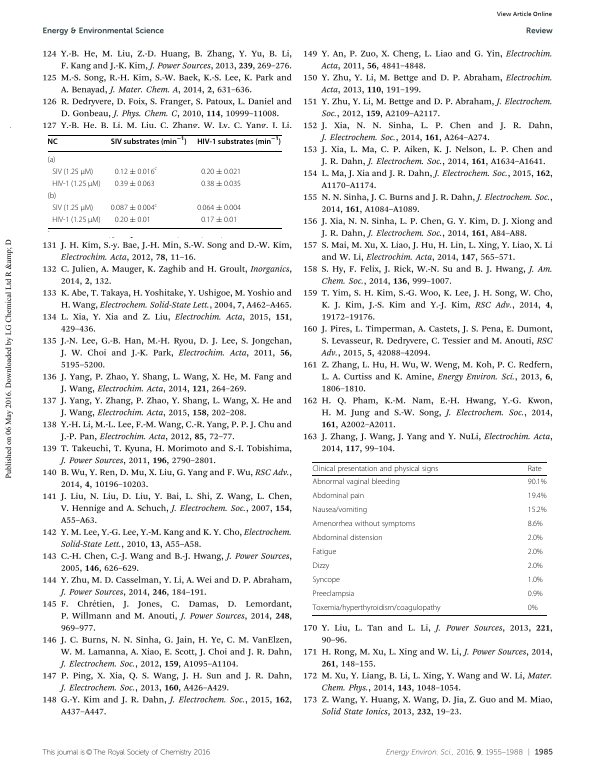borderless: (311, 460, 547, 615), (46, 133, 282, 228)
cell: (311, 603, 441, 613), (312, 464, 439, 473), (312, 519, 416, 529), (312, 477, 401, 487), (196, 136, 282, 146), (110, 136, 188, 146), (312, 533, 384, 543), (312, 505, 368, 515), (312, 491, 365, 501), (110, 202, 158, 213), (51, 179, 102, 189), (114, 166, 158, 177), (51, 216, 102, 225), (51, 167, 94, 177), (312, 589, 355, 599), (200, 167, 242, 177), (114, 179, 156, 189), (200, 179, 242, 189), (196, 204, 242, 213), (51, 204, 94, 213), (114, 216, 152, 225), (200, 216, 238, 225), (312, 575, 341, 585), (312, 547, 337, 557), (527, 477, 547, 487), (527, 491, 547, 501), (527, 505, 547, 515), (312, 561, 330, 571), (527, 519, 544, 529), (527, 533, 544, 543), (527, 547, 544, 557), (527, 561, 544, 571), (527, 575, 544, 585), (527, 589, 544, 599), (527, 464, 543, 473), (527, 603, 538, 613), (47, 137, 59, 146), (47, 155, 56, 165), (47, 192, 57, 201)
